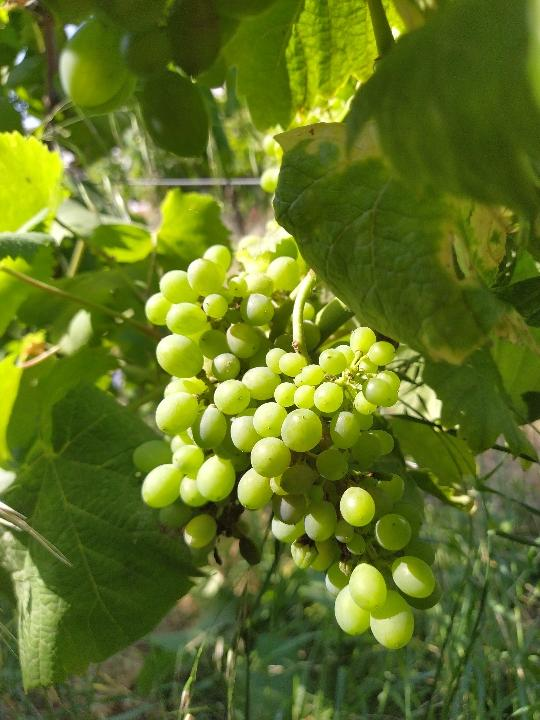grape: (129, 240, 445, 653)
